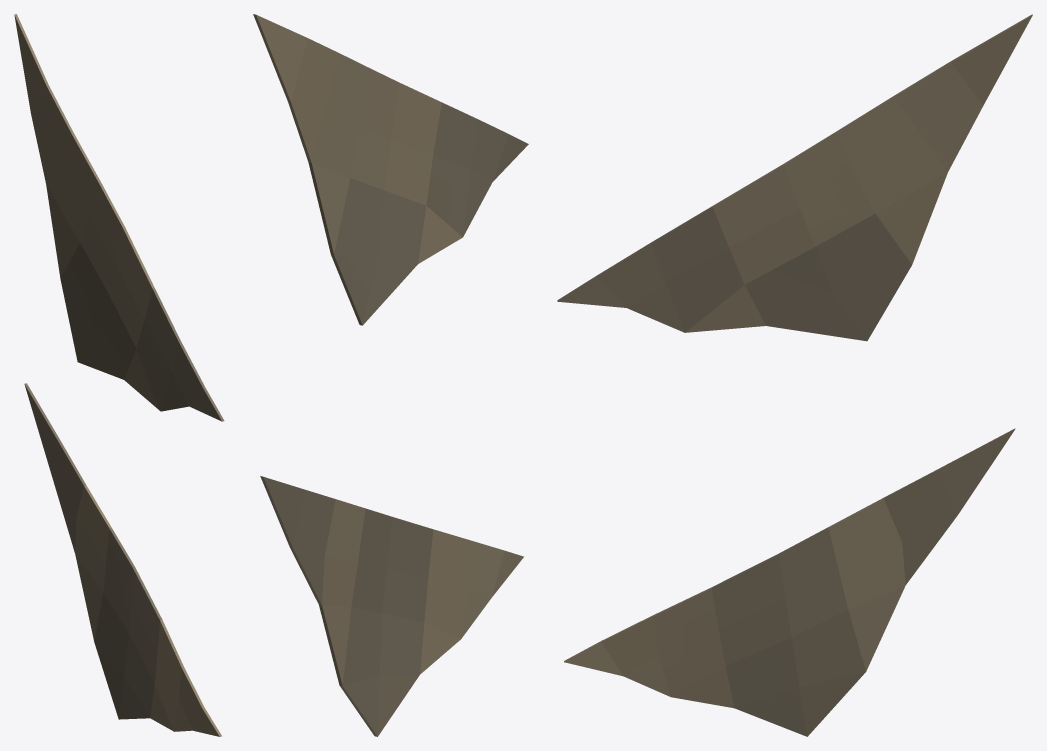
The model's file is LargeShip_2_Sails3.fbx.
3 renders of one model, left to right at view 1: azimuth 30°, elevation 25°; view 2: azimuth 150°, elevation 25°; view 3: azimuth 270°, elevation 25°, orthographic. The views are drawn at different scales.
Visible parts, largest first — view 1: LargeShip_2_Sails3; view 2: LargeShip_2_Sails3; view 3: LargeShip_2_Sails3.
Part boxes in pixels (left/top/right/bottom): LargeShip_2_Sails3: left=14, top=14, right=224, bottom=736; LargeShip_2_Sails3: left=253, top=14, right=528, bottom=736; LargeShip_2_Sails3: left=557, top=14, right=1032, bottom=736.
Bounding box in the file's own units: 59.33 × 1723 × 1033.
